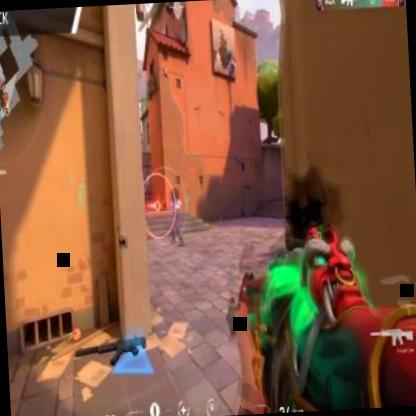enemy: (170, 188, 184, 246)
enemy_head: (171, 186, 178, 200)
